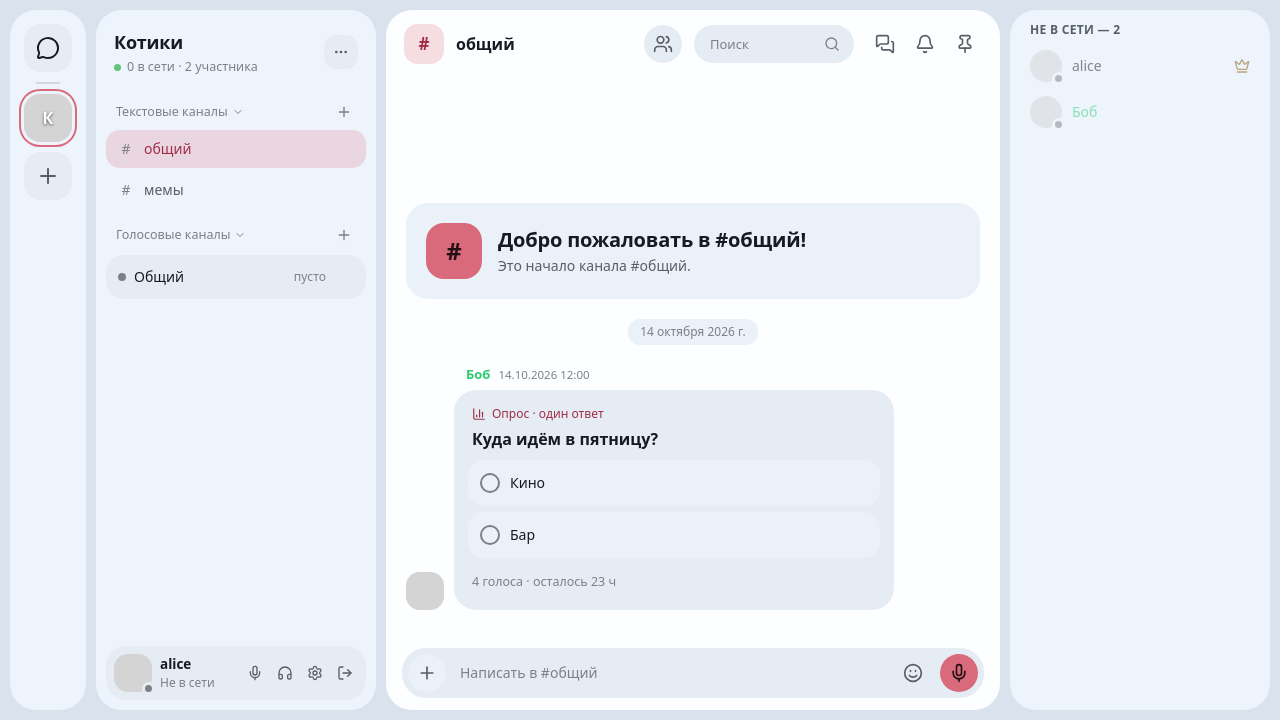
Test case: polls › take a vote, then show the results with mine marked
The width and height of the screenshot is (1280, 720).
Expected: the text "Куда идём в пятницу?" is shown, [472,428,658,450]
Click the button "Кино". click: [528, 483]
box: [468,460,880,506]
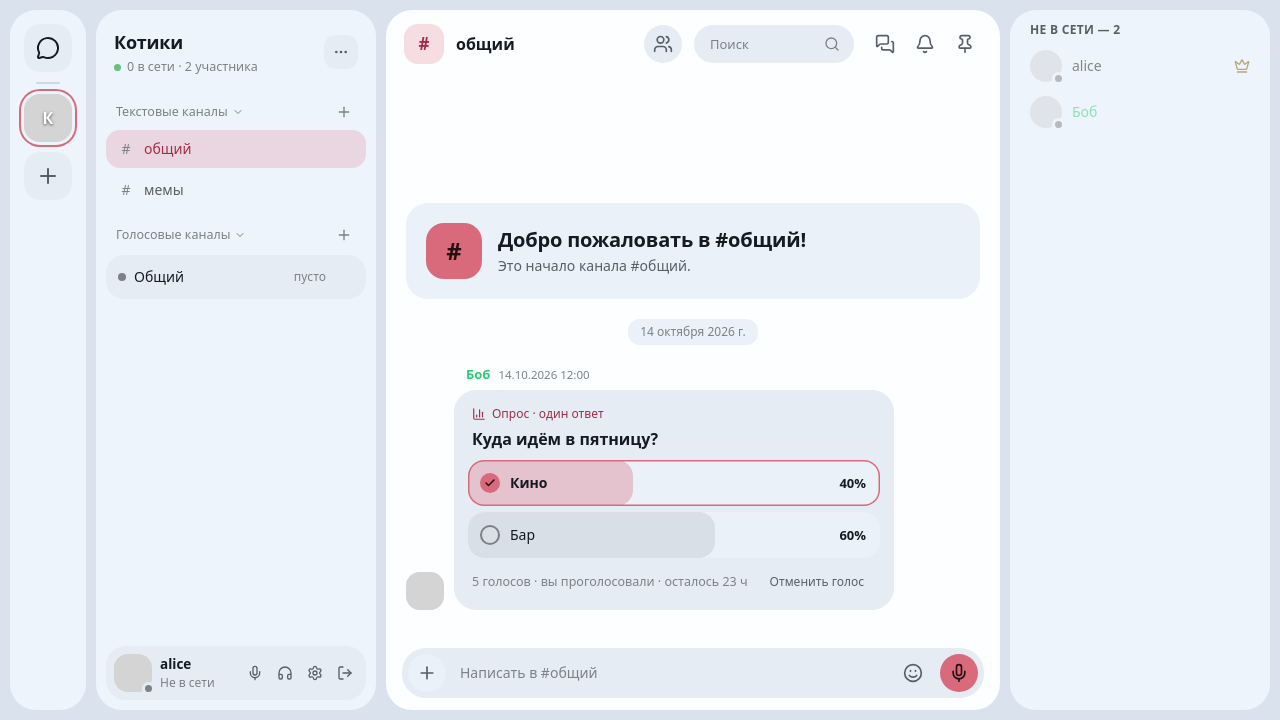
Expected: the element named "Кино: 40%" is shown, [468,460,880,506]
Expected: the text "5 голосов · вы проголосовали · осталось 23 ч" is shown, [472,573,748,591]
